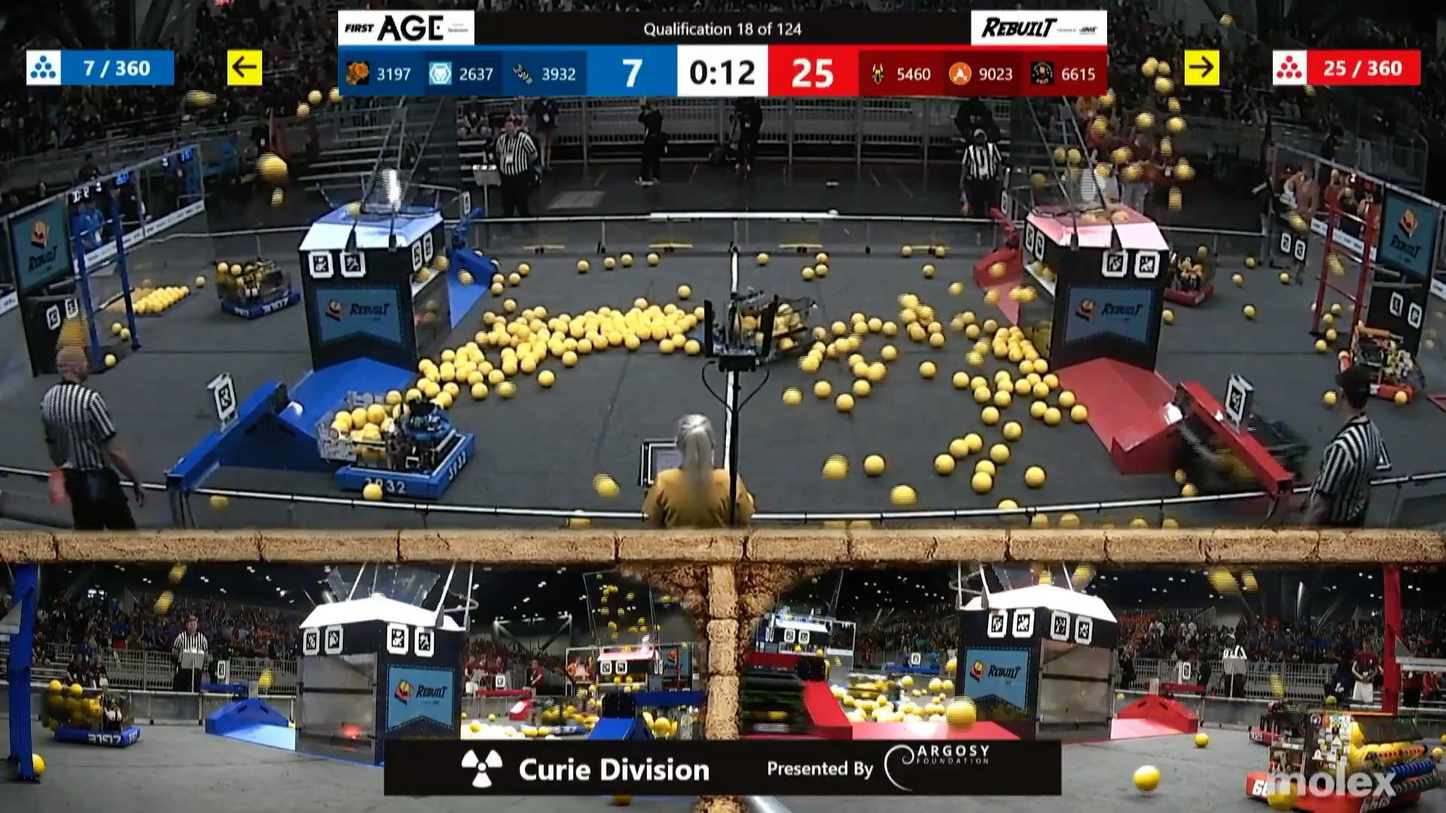bumpers: (1239, 762, 1432, 813), (334, 438, 479, 499), (697, 320, 817, 362), (1324, 360, 1422, 409), (50, 715, 154, 751), (212, 285, 312, 321), (1249, 721, 1321, 756), (515, 715, 591, 742), (1149, 280, 1218, 306)
